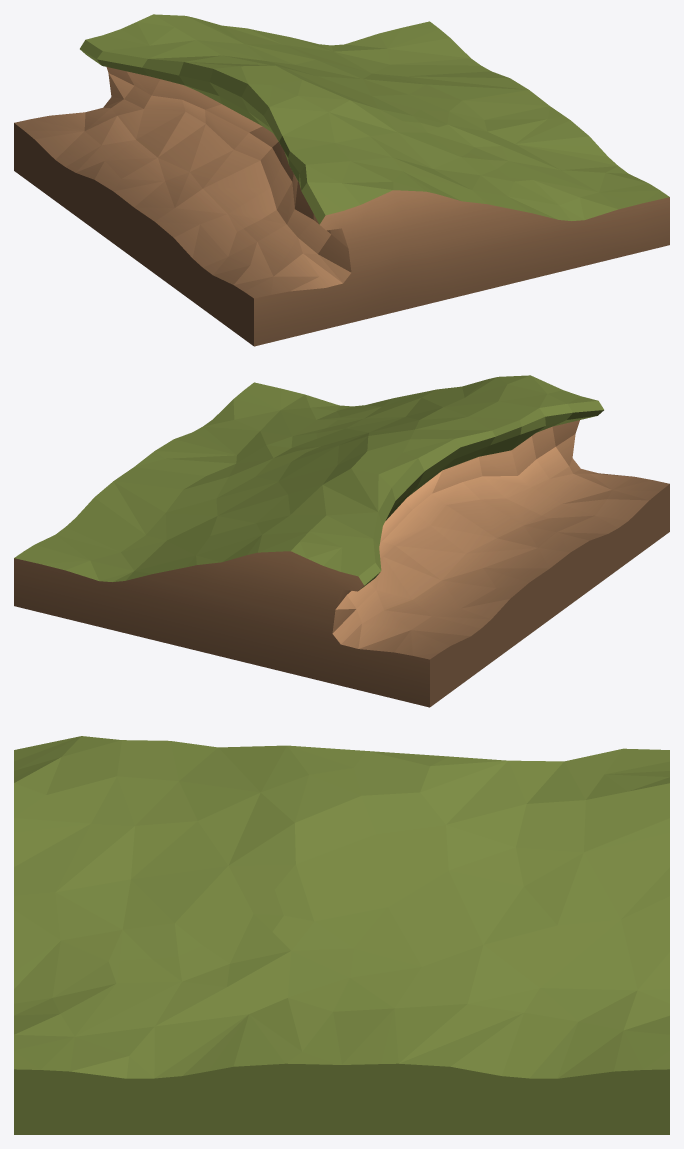
Rendered from Terrian_Cliff_Hill_Straight-01.fbx.
The picture shows the model from 3 angles, top to bottom: view 1: azimuth 30°, elevation 25°; view 2: azimuth 150°, elevation 25°; view 3: azimuth 270°, elevation 25°; orthographic projection. The views are drawn at different scales.
Visible parts, largest first — view 1: Terrian_Cliff_Hill_Straight-01; view 2: Terrian_Cliff_Hill_Straight-01; view 3: Terrian_Cliff_Hill_Straight-01.
Boxes of the visible parts, left/top/right/bottom form: Terrian_Cliff_Hill_Straight-01: left=14, top=14, right=669, bottom=346; Terrian_Cliff_Hill_Straight-01: left=14, top=375, right=669, bottom=707; Terrian_Cliff_Hill_Straight-01: left=14, top=736, right=669, bottom=1134.
Size of the model in its own units: 3600 by 1143 by 3600.
1 material, 1 textured.
